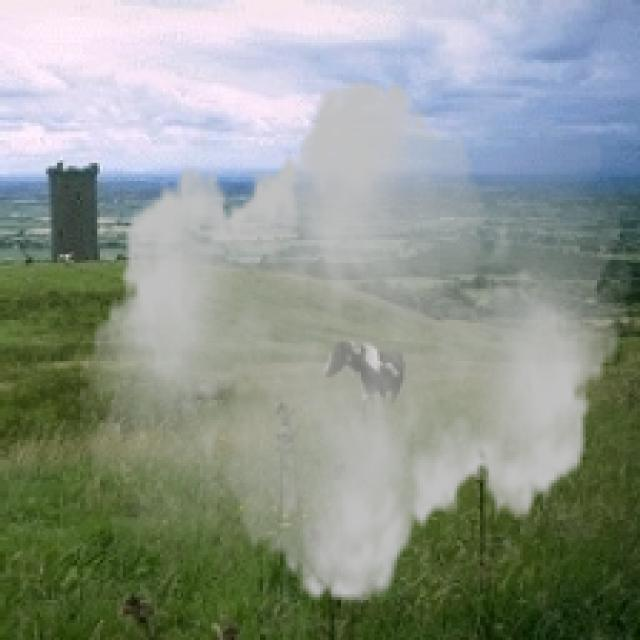smoke: (80, 57, 631, 626)
